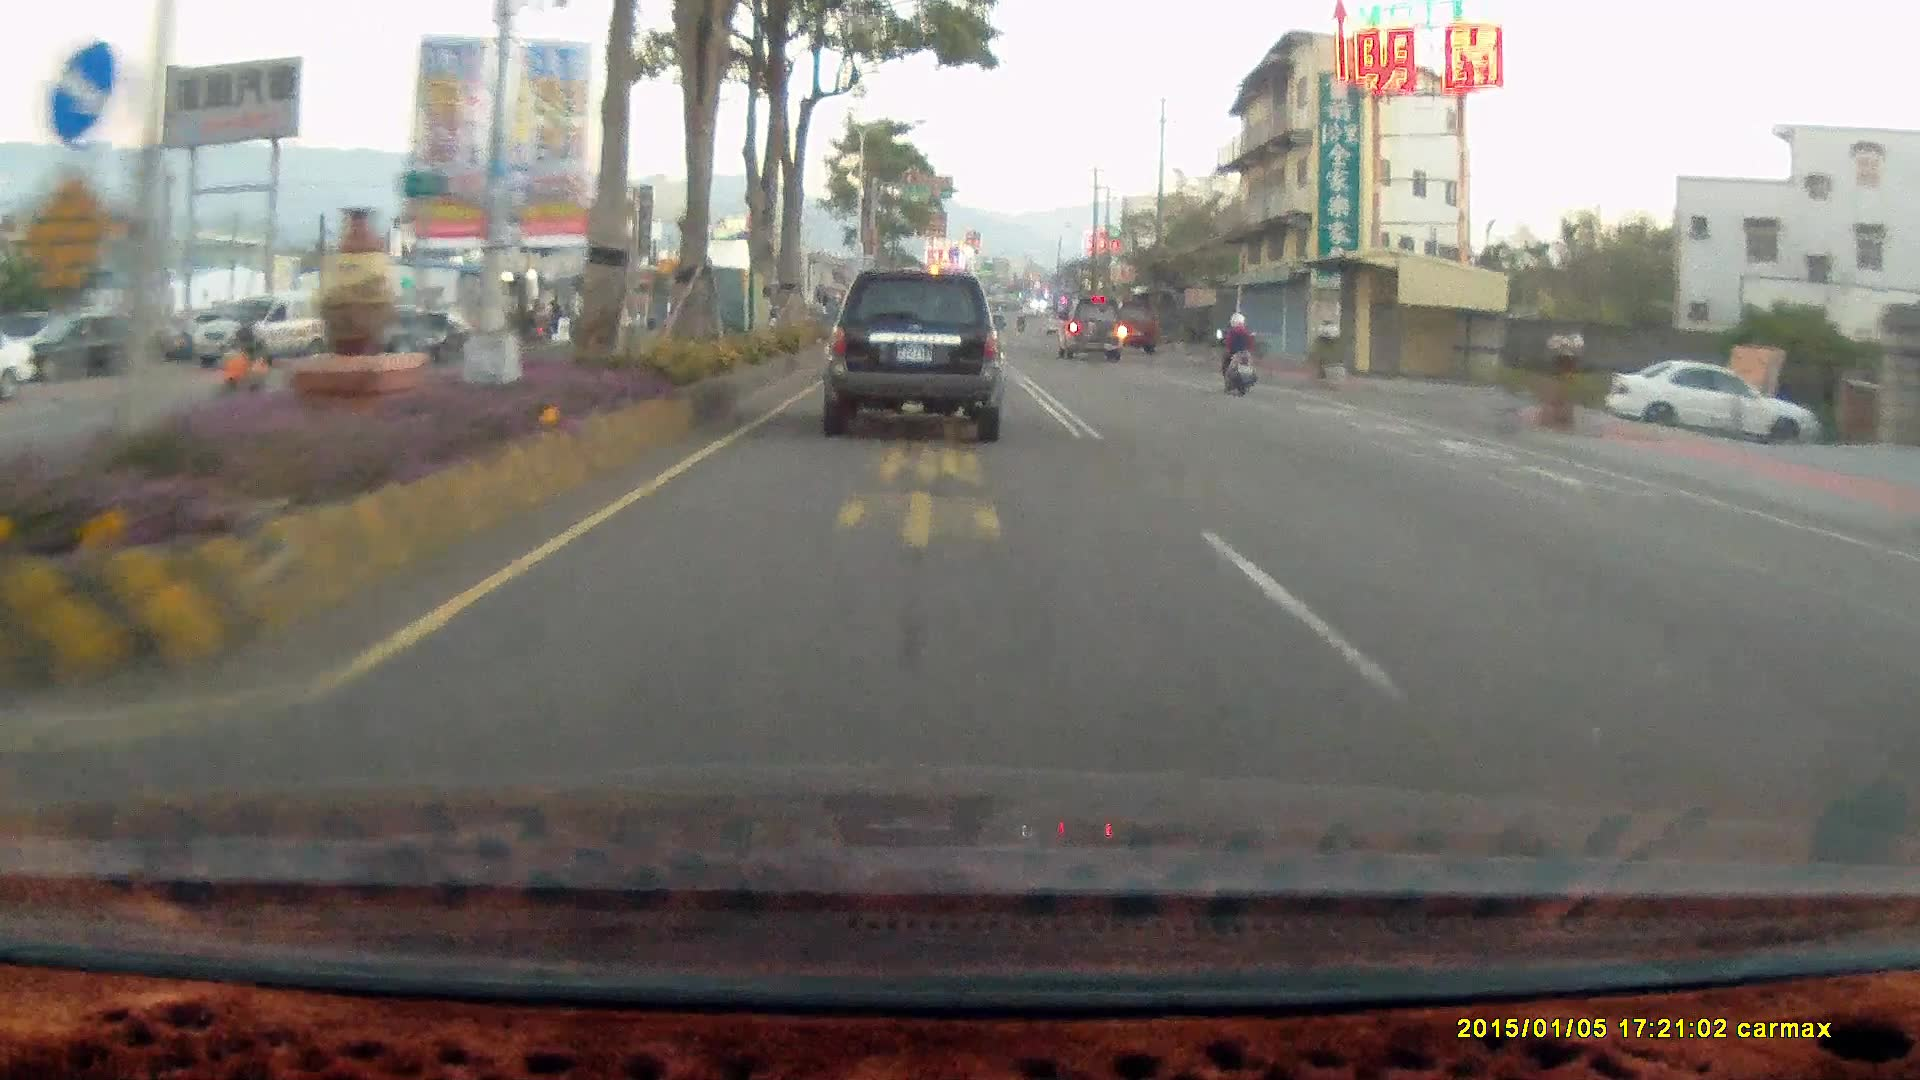rider: (1209, 306, 1266, 403), (213, 314, 264, 397), (1212, 306, 1255, 390)
vehicle: (819, 269, 1002, 440), (826, 273, 1009, 441), (1603, 358, 1816, 447), (1615, 361, 1819, 447), (1, 306, 161, 390), (6, 314, 180, 384), (190, 289, 338, 365), (189, 288, 337, 363), (371, 312, 482, 373), (376, 310, 476, 364), (1055, 298, 1123, 364), (1060, 299, 1127, 363), (0, 324, 37, 402), (1109, 298, 1158, 352)
